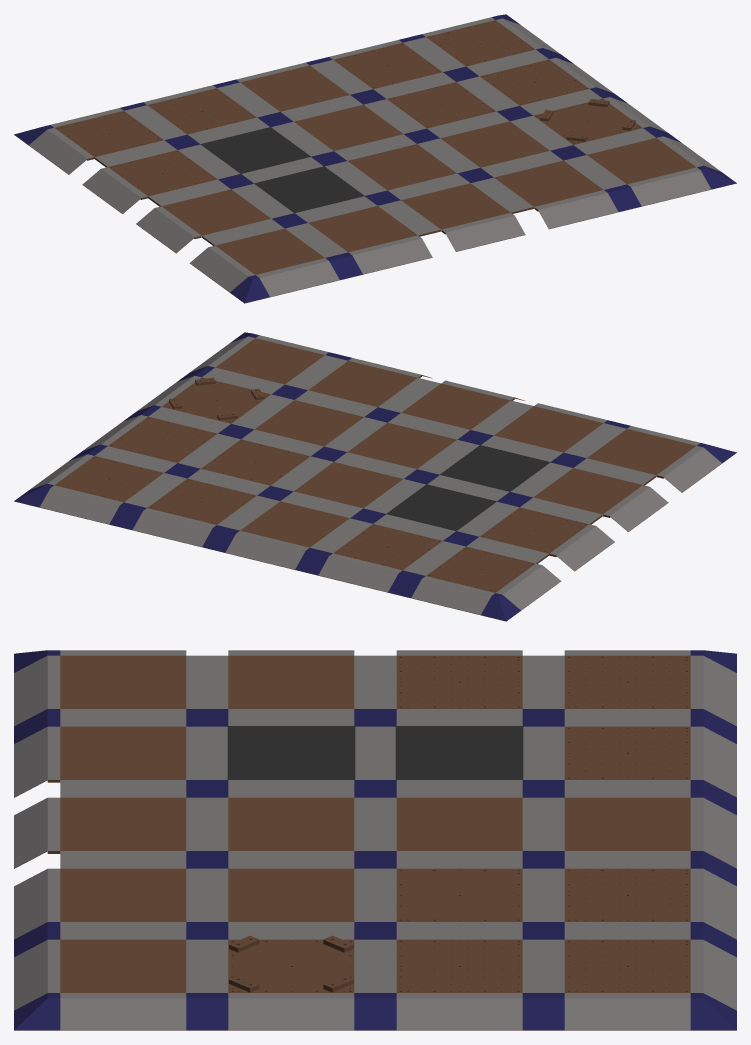
Rendered from floor_irb1200.dae.
3 views of the same model, one above another, from view 1: azimuth 30°, elevation 25°; view 2: azimuth 150°, elevation 25°; view 3: azimuth 270°, elevation 25° (orthographic). The views are drawn at different scales.
Parts seen in each view (by area): view 1: node, Plane.001, Plane; view 2: node, Plane.001, Plane; view 3: node, Plane.001, Plane.
Part boxes in pixels (x1=…): node: x1=14, y1=14, x2=736, y2=303; Plane.001: x1=200, y1=127, x2=310, y2=173; Plane: x1=254, y1=166, x2=364, y2=213; node: x1=14, y1=332, x2=736, y2=621; Plane.001: x1=386, y1=484, x2=496, y2=531; Plane: x1=440, y1=445, x2=550, y2=491; node: x1=14, y1=650, x2=736, y2=1030; Plane.001: x1=395, y1=726, x2=523, y2=779; Plane: x1=227, y1=726, x2=355, y2=779.
Bounding box in the file's own units: 5.3 × 4.3 × 0.148.
